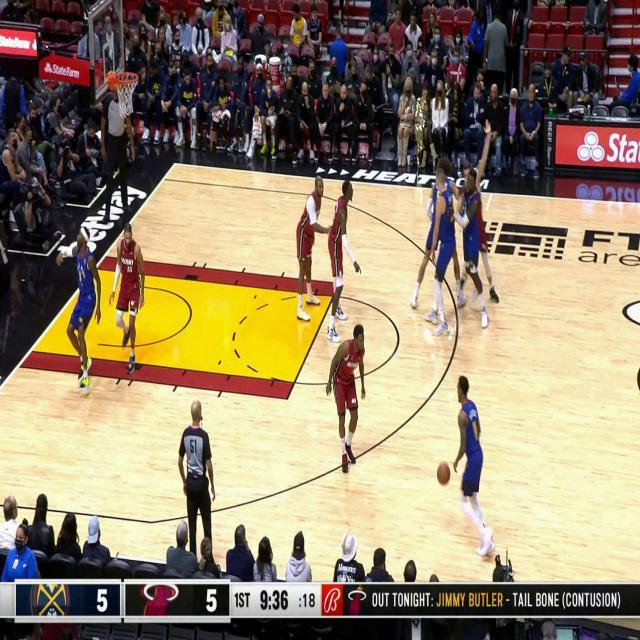rim: (436, 462, 452, 485)
